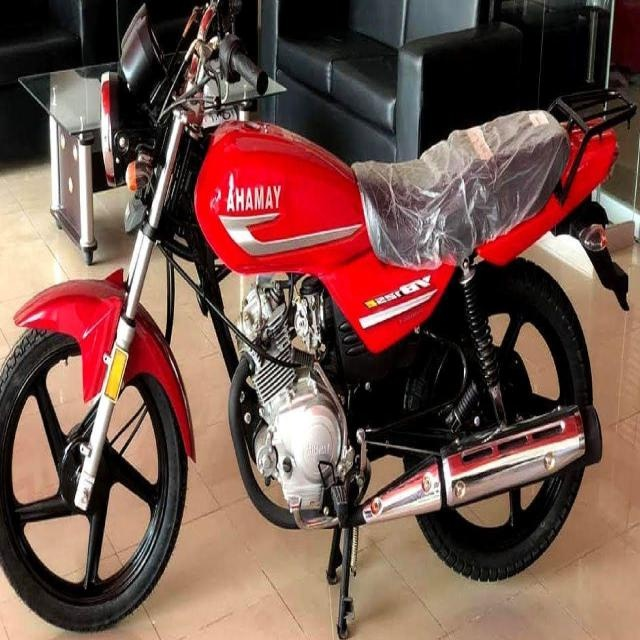motorcycle: (0, 3, 636, 634)
